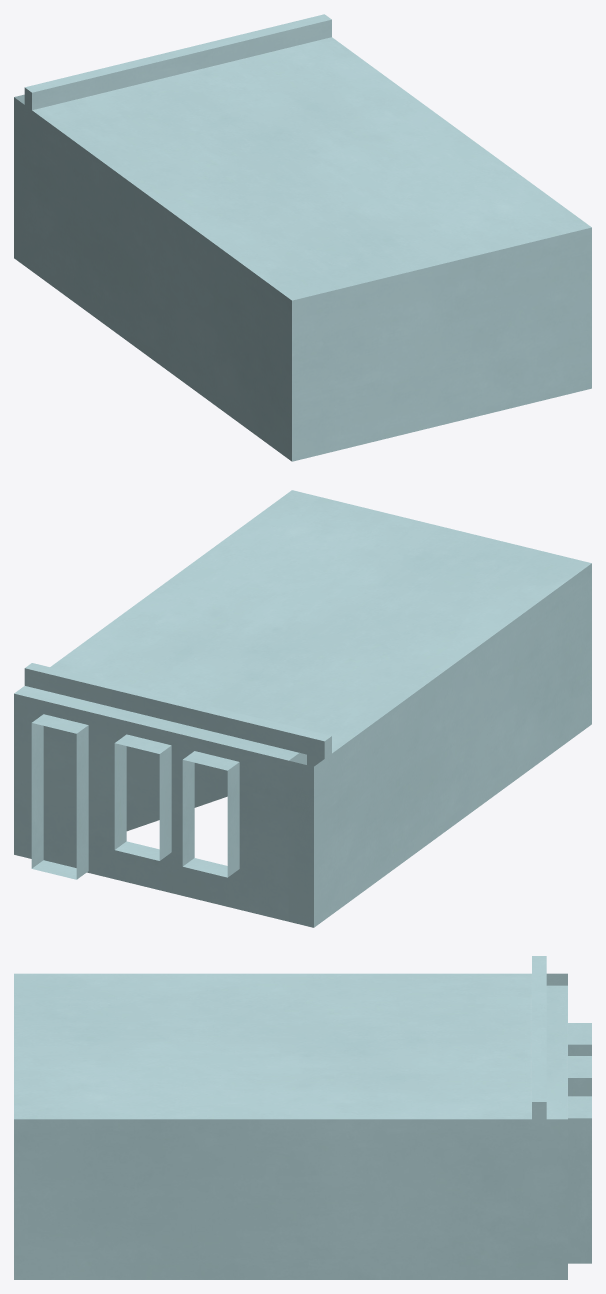
Rendered from studyroom_60.obj.
3 views of the same model, one above another, from view 1: azimuth 30°, elevation 25°; view 2: azimuth 150°, elevation 25°; view 3: azimuth 270°, elevation 25° (orthographic).
Bounding box in the file's own units: 5.67 × 3.23 × 9.5.
